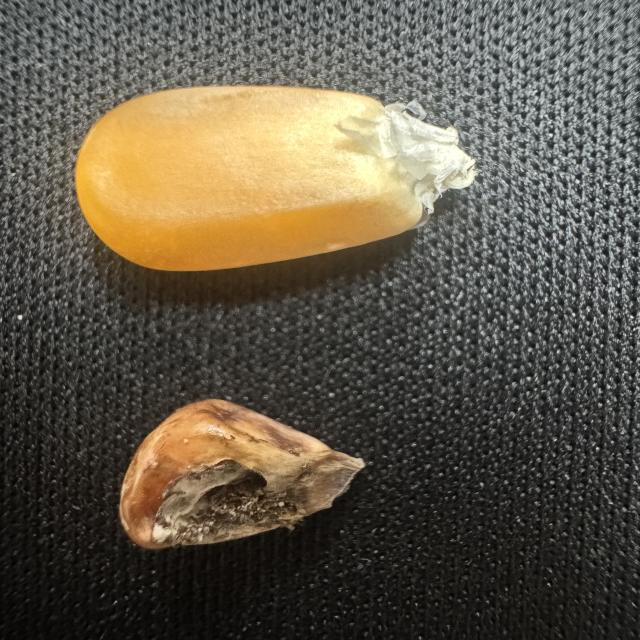Bad-Seed: (98, 396, 372, 555)
Good-Seed: (68, 77, 482, 276)
